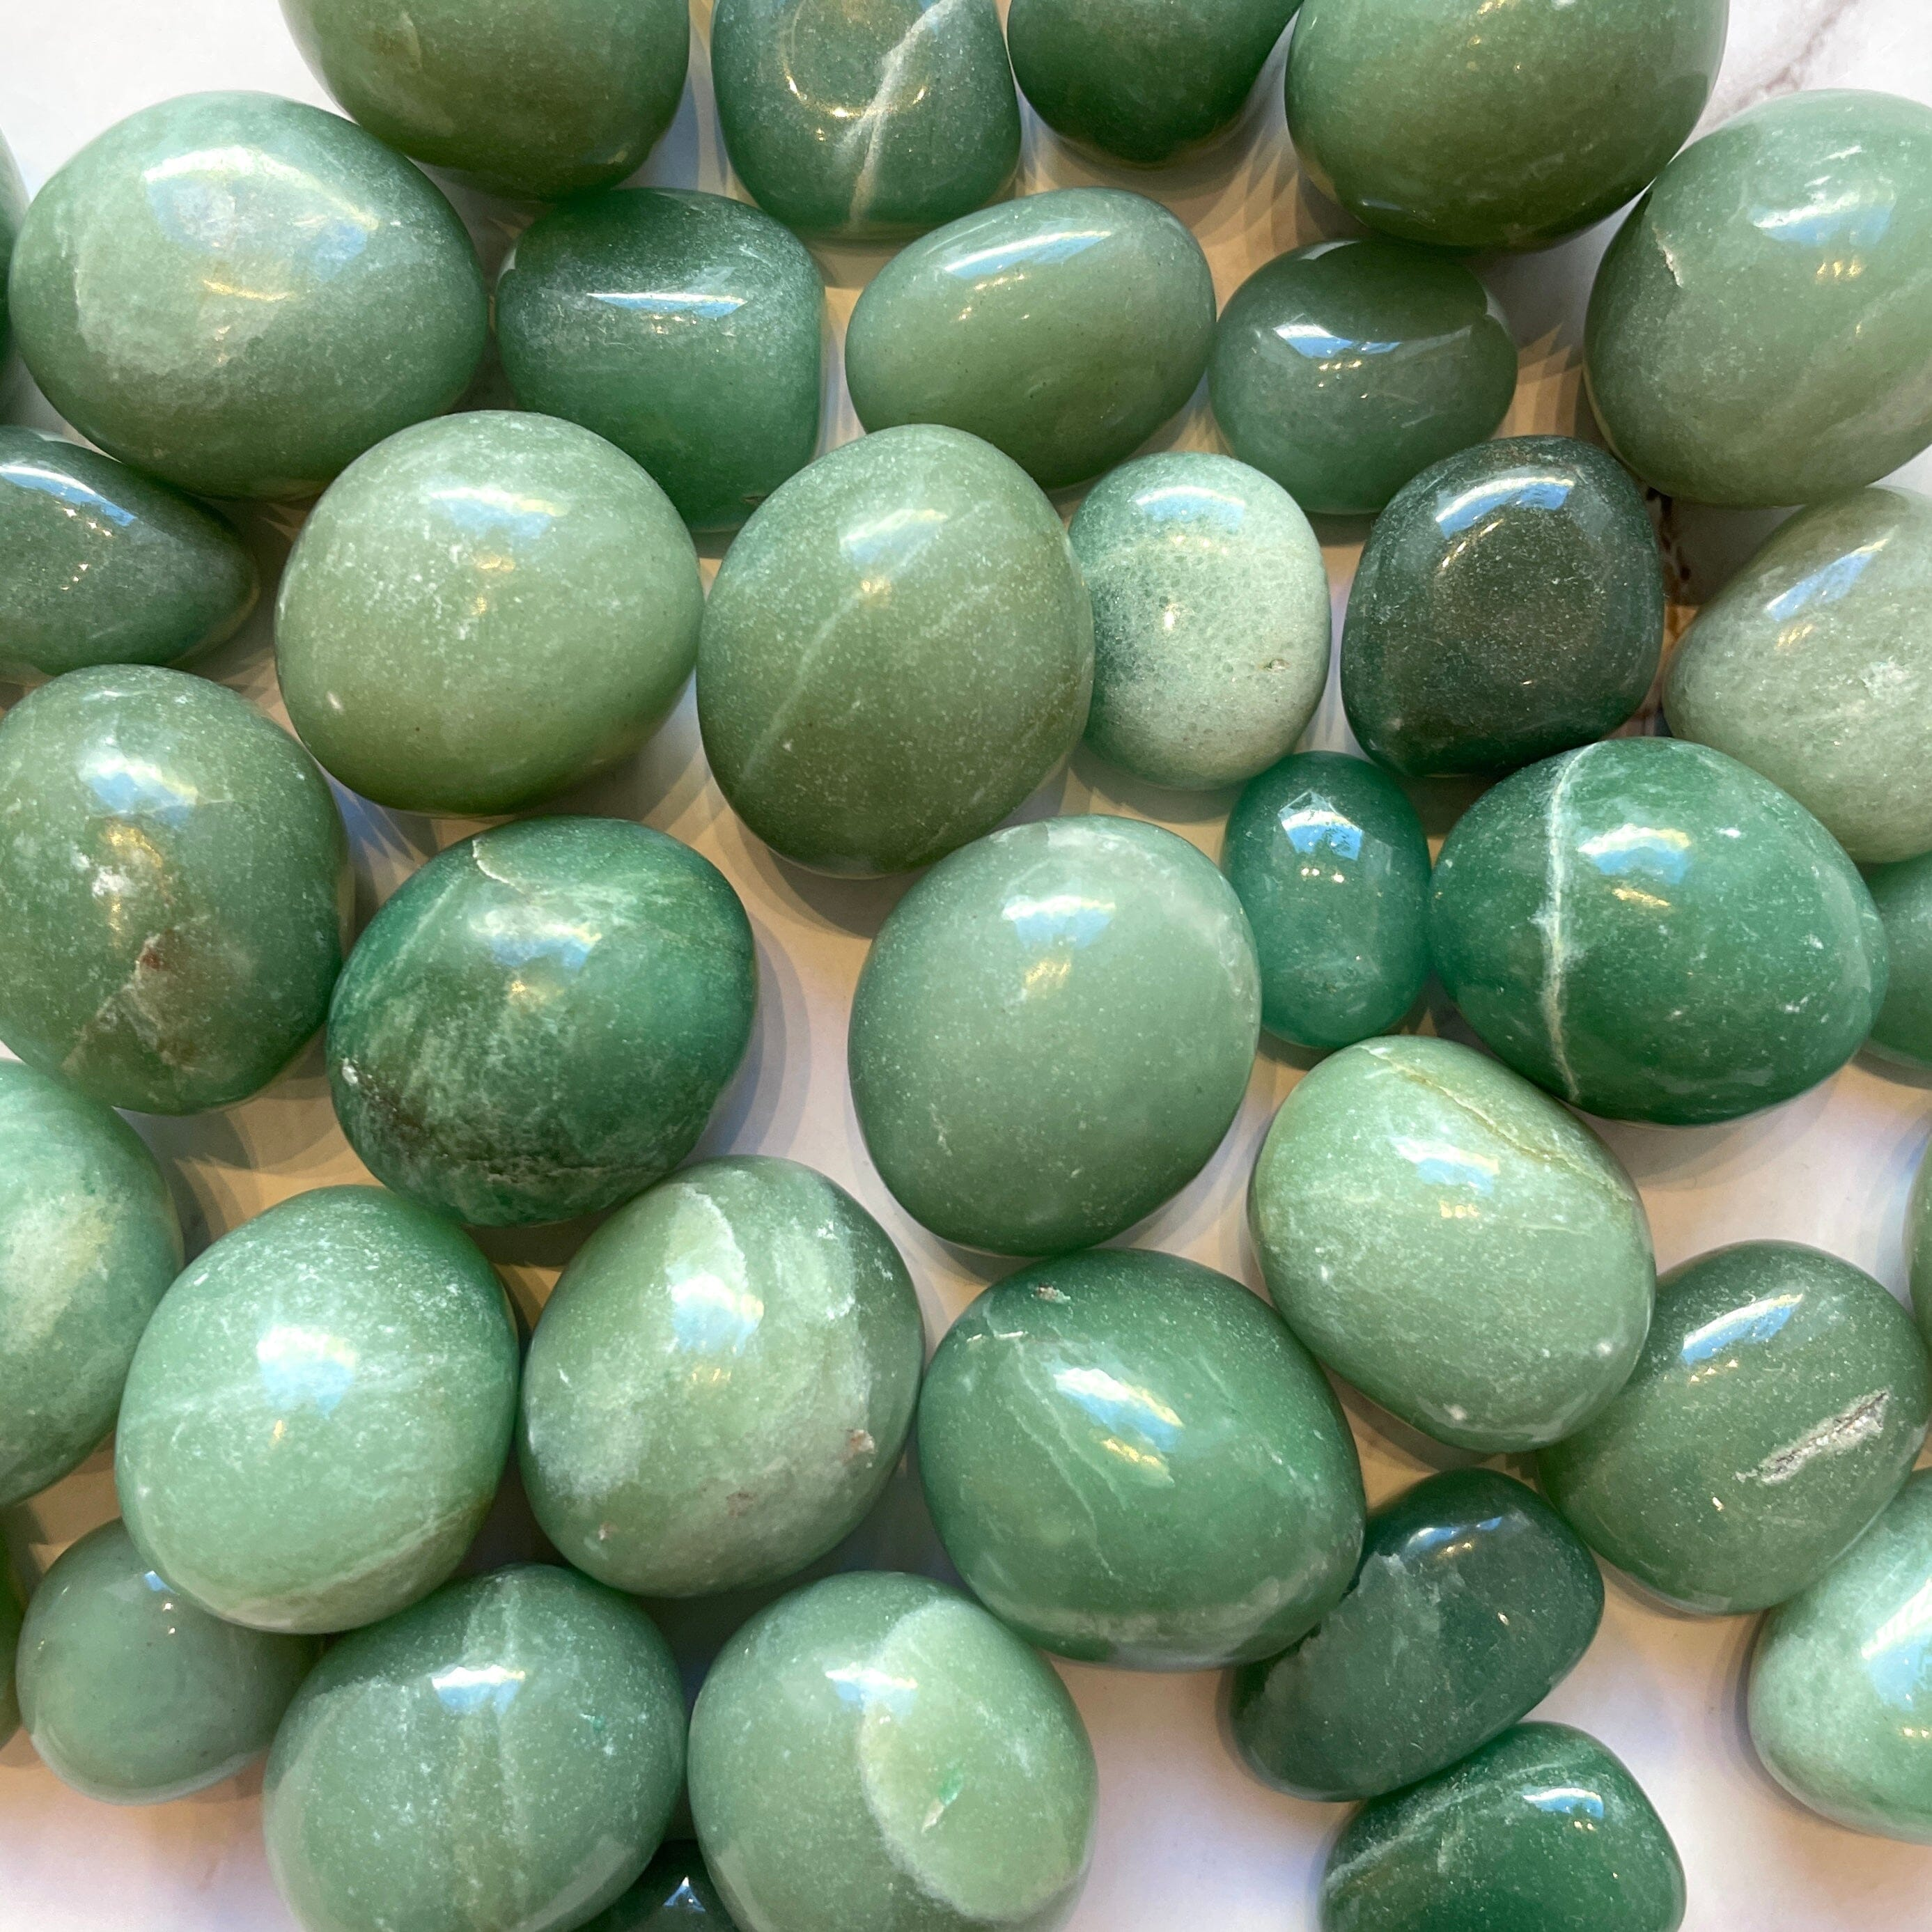Aventurine: (28, 35, 1932, 1905)
